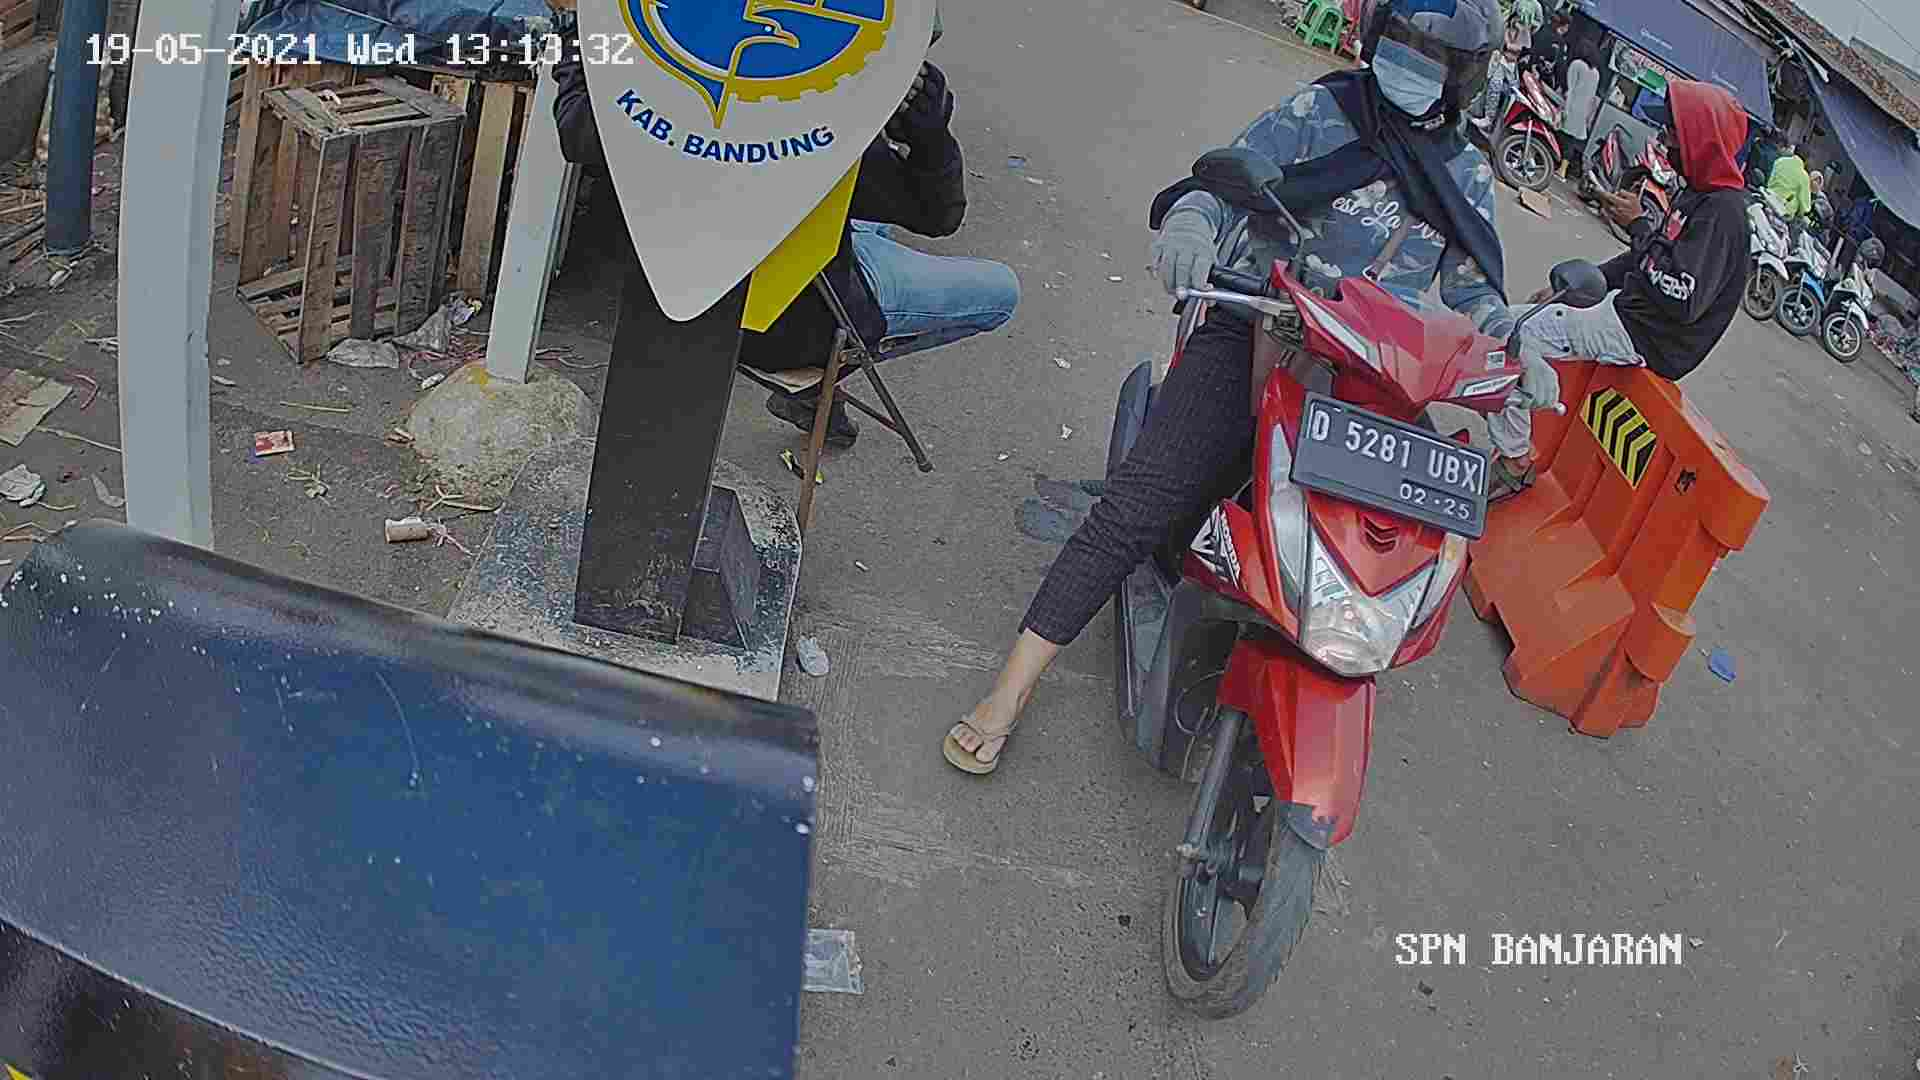motor: (1108, 199, 1510, 1010)
